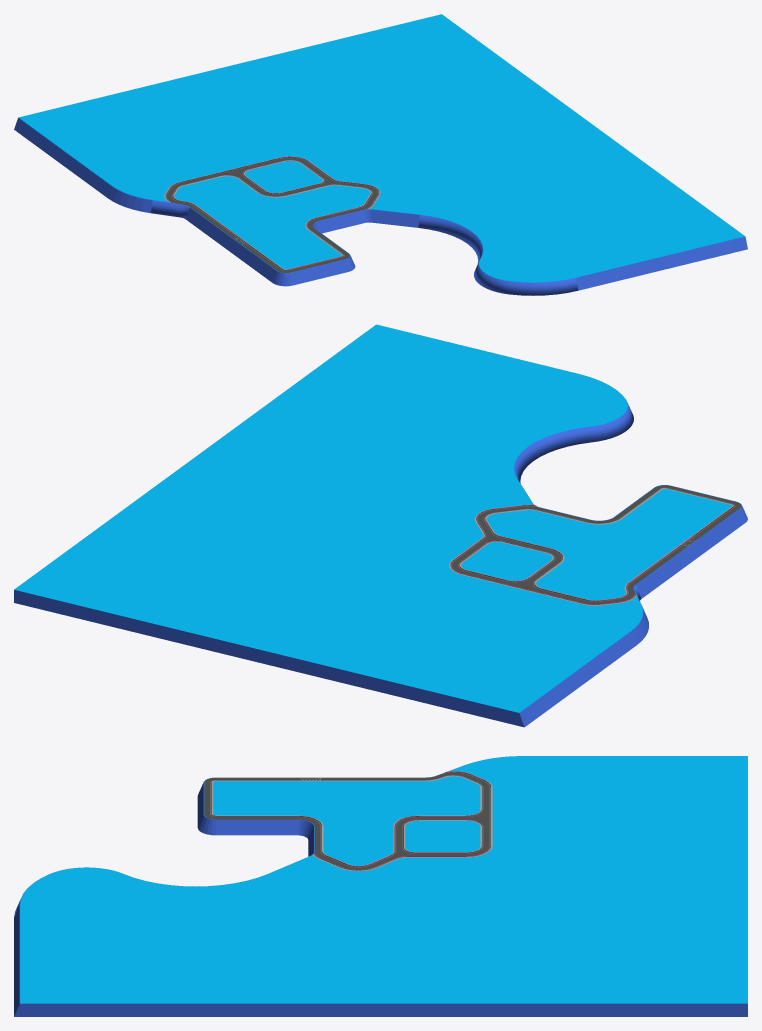
The model's file is Marina TEST.fbx.
The picture shows the model from 3 angles, top to bottom: view 1: azimuth 30°, elevation 25°; view 2: azimuth 150°, elevation 25°; view 3: azimuth 270°, elevation 25°; orthographic projection. The views are drawn at different scales.
Visible parts, largest first — view 1: G-Object.021, G-Object.015, G-Object.009, G-Object.018, G-Object.014, G-Object.013, G-Object.010; view 2: G-Object.021, G-Object.015, G-Object.009, G-Object.018, G-Object.013, G-Object.014, G-Object.010; view 3: G-Object.021, G-Object.015, G-Object.009, G-Object.018, G-Object.010, G-Object.014, G-Object.013.
Part boxes in pixels (bbox=[...]): G-Object.021: bbox=[14, 14, 747, 295]; G-Object.015: bbox=[174, 176, 370, 269]; G-Object.009: bbox=[167, 157, 377, 272]; G-Object.018: bbox=[245, 161, 322, 193]; G-Object.014: bbox=[173, 175, 371, 269]; G-Object.013: bbox=[171, 175, 373, 270]; G-Object.010: bbox=[173, 175, 371, 270]; G-Object.021: bbox=[14, 324, 747, 727]; G-Object.015: bbox=[487, 489, 732, 600]; G-Object.009: bbox=[452, 485, 741, 604]; G-Object.018: bbox=[461, 541, 552, 580]; G-Object.013: bbox=[483, 487, 735, 601]; G-Object.014: bbox=[485, 488, 733, 600]; G-Object.010: bbox=[485, 488, 734, 601]; G-Object.021: bbox=[14, 756, 747, 1016]; G-Object.015: bbox=[213, 776, 480, 865]; G-Object.009: bbox=[204, 772, 489, 869]; G-Object.018: bbox=[405, 820, 480, 852]; G-Object.010: bbox=[211, 775, 481, 866]; G-Object.014: bbox=[211, 775, 481, 866]; G-Object.013: bbox=[210, 775, 483, 867].
Size of the model in its own units: 203794 by 5200 by 252589.
